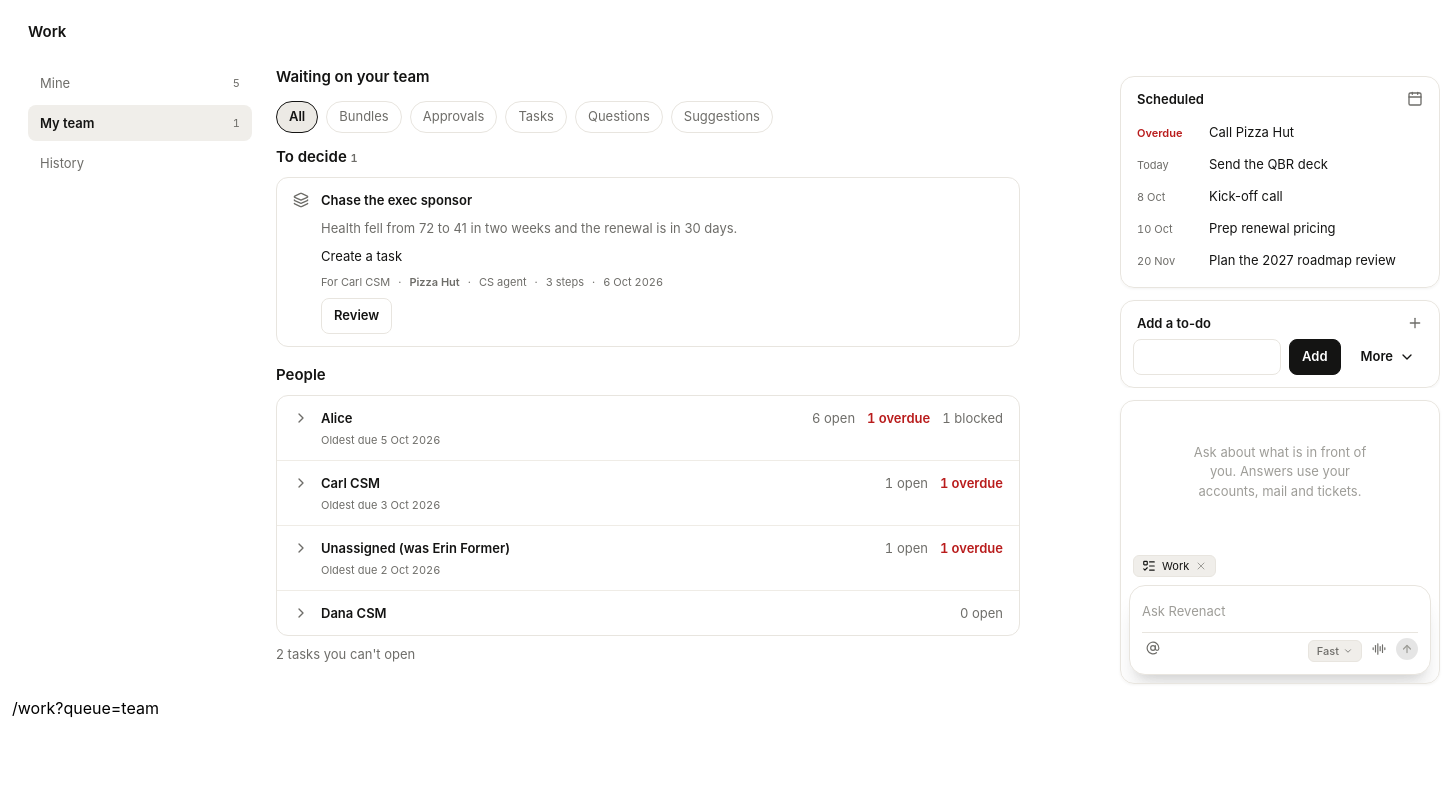
it: Work inbox: My team people and queues (spec §1.5, §8.1) › lists every person with counts, overdue highlighted, the hidden count, and opens a row into their tasks
Expected: the 2nd element showing "1 overdue" is shown, [940,473,1003,493]
Expected: the text "2 tasks you can't open" is shown, [276,646,415,662]
Click the button "Carl CSM 1 open 1 overdue Oldest due 3 Oct 2026". click: click(351, 483)
box: [277,461,1019,525]
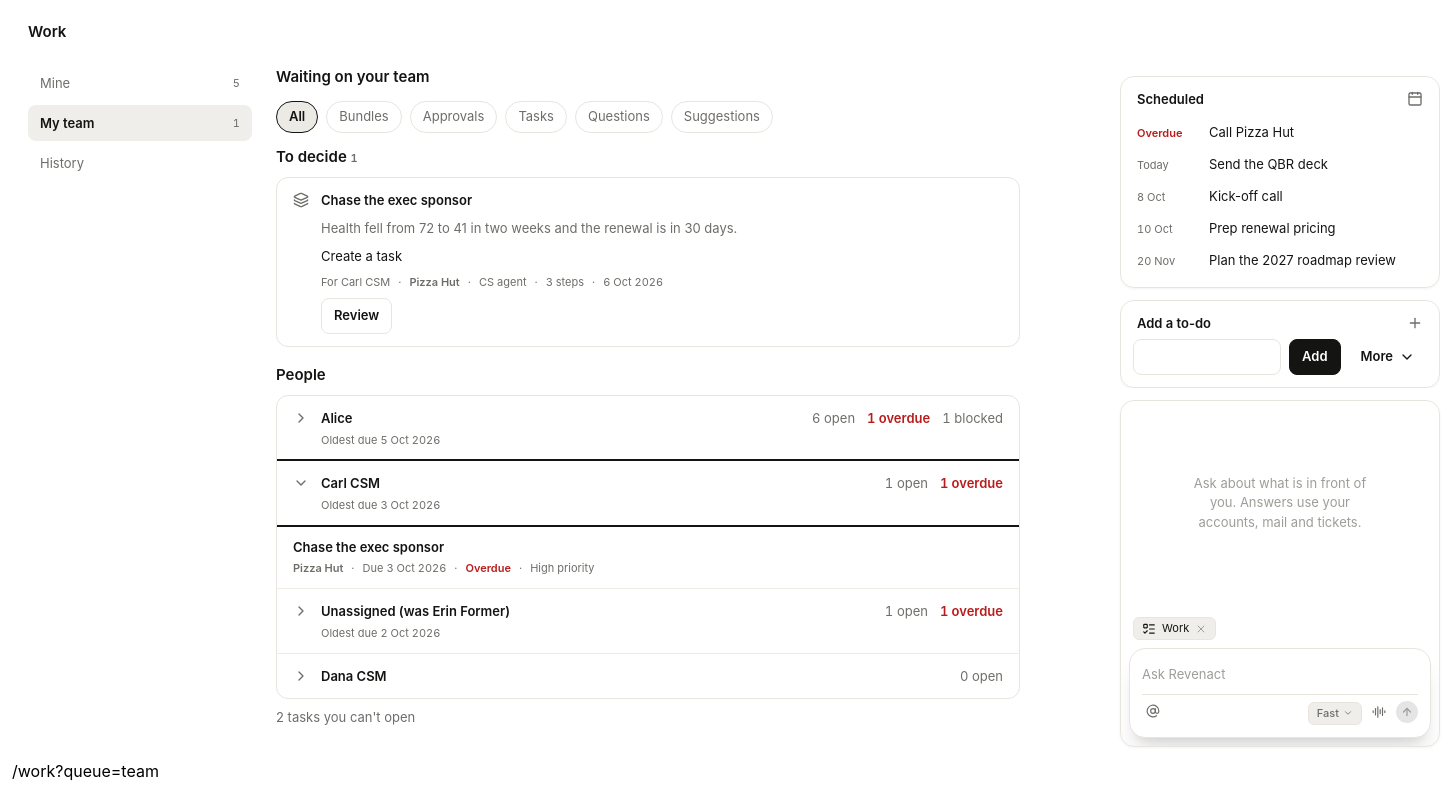
Result: the button "Carl CSM 1 open 1 overdue Oldest due 3 Oct 2026" is expanded at [277,461,1019,525]
Result: the list named "Carl CSM: open tasks" shows "Overdue" at [466,560,511,574]
Click the button "Dana CSM 0 open". click: click(354, 676)
box: [277,654,1019,698]
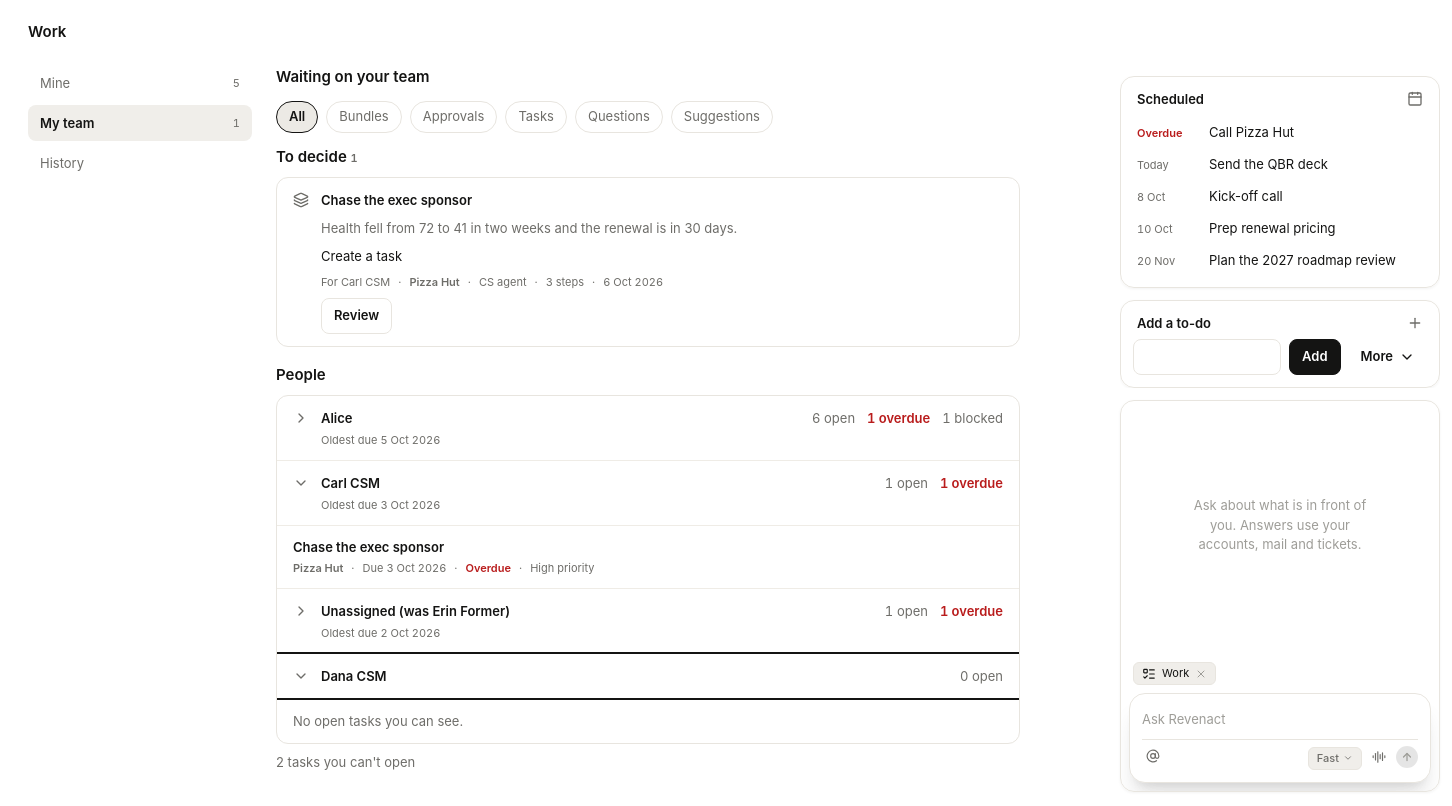
Result: the text "No open tasks you can see." is shown at [293,712,463,728]
